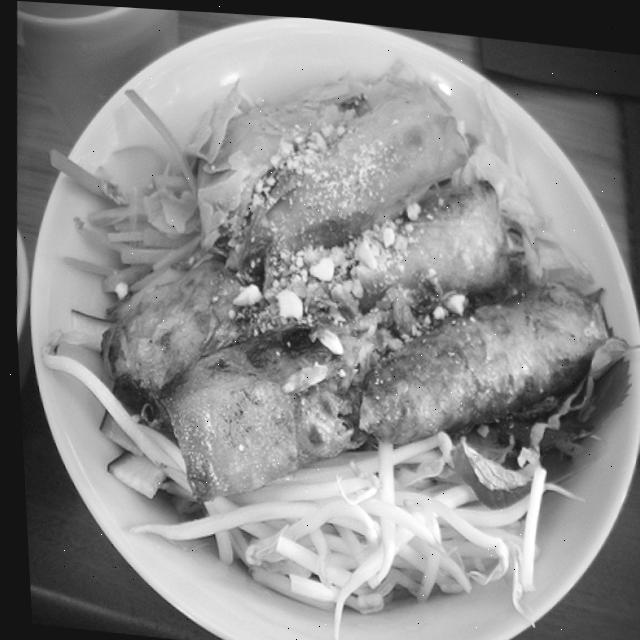炸货点心: (55, 46, 621, 602)
